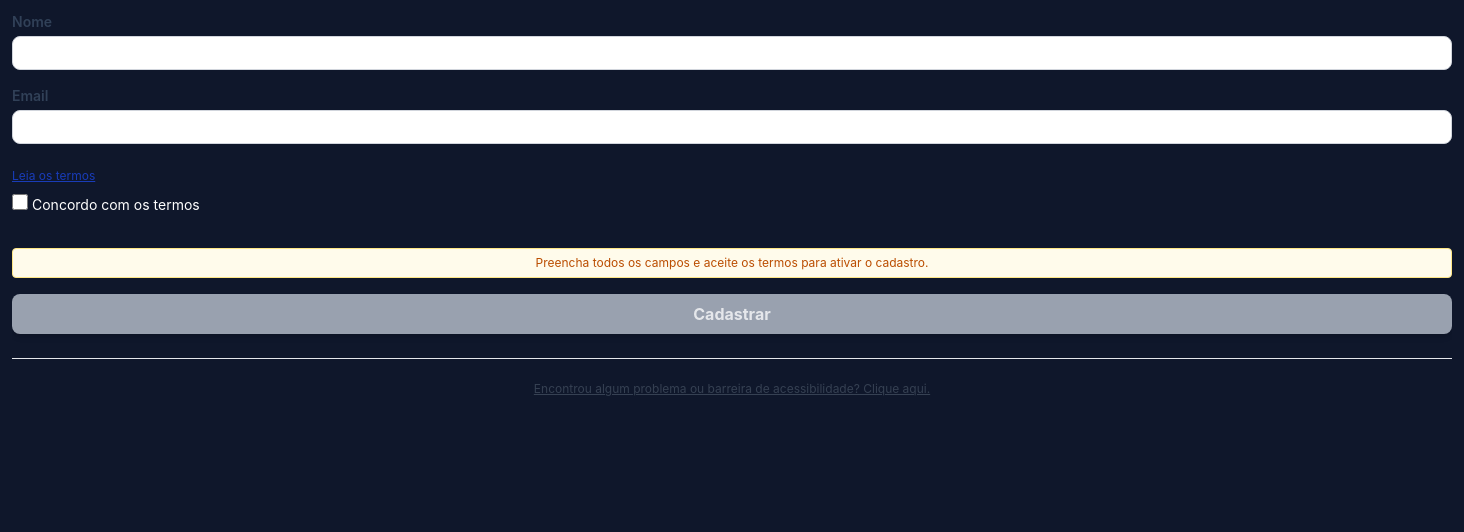
Fluxo de Sucesso com API › Deve aparecer mensagem de agradecimento ao submeter o feedback do rodapé
The image size is (1464, 532).
Click the button "acessibilidade": click(732, 389) top-left (530, 377), bottom-right (934, 401)
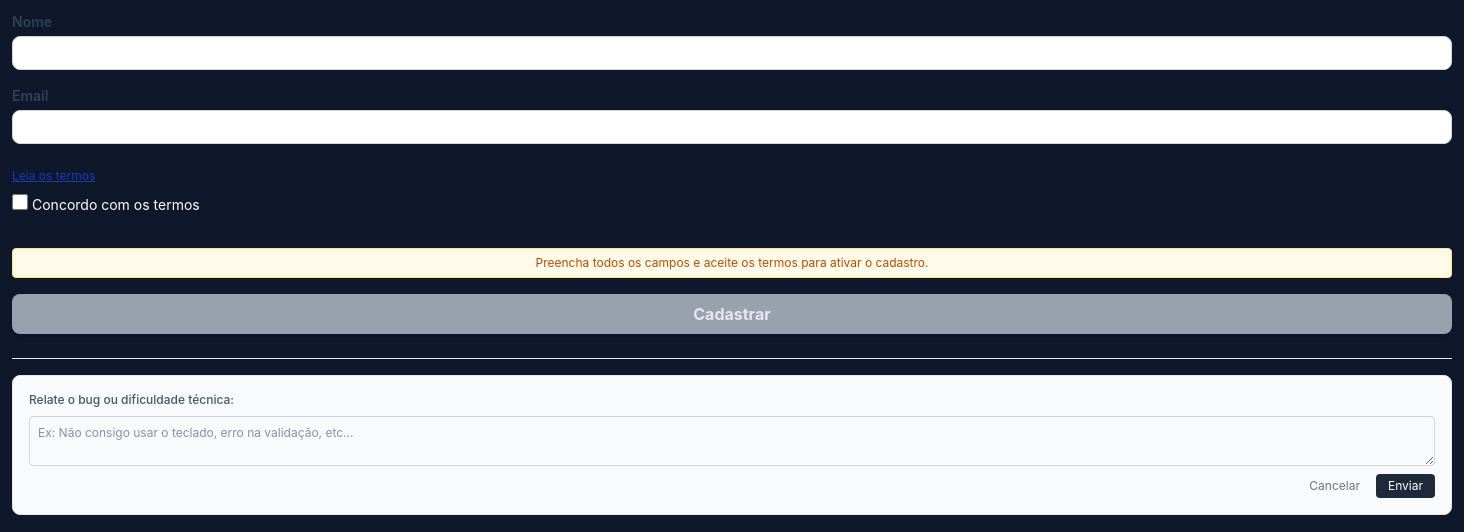
In the text box with placeholder "Ex: Não consigo usar o teclado, erro na validação, etc...": (732, 441) top-left (29, 416), bottom-right (1435, 466), type "Tive problemas com a navegação pelo teclado"
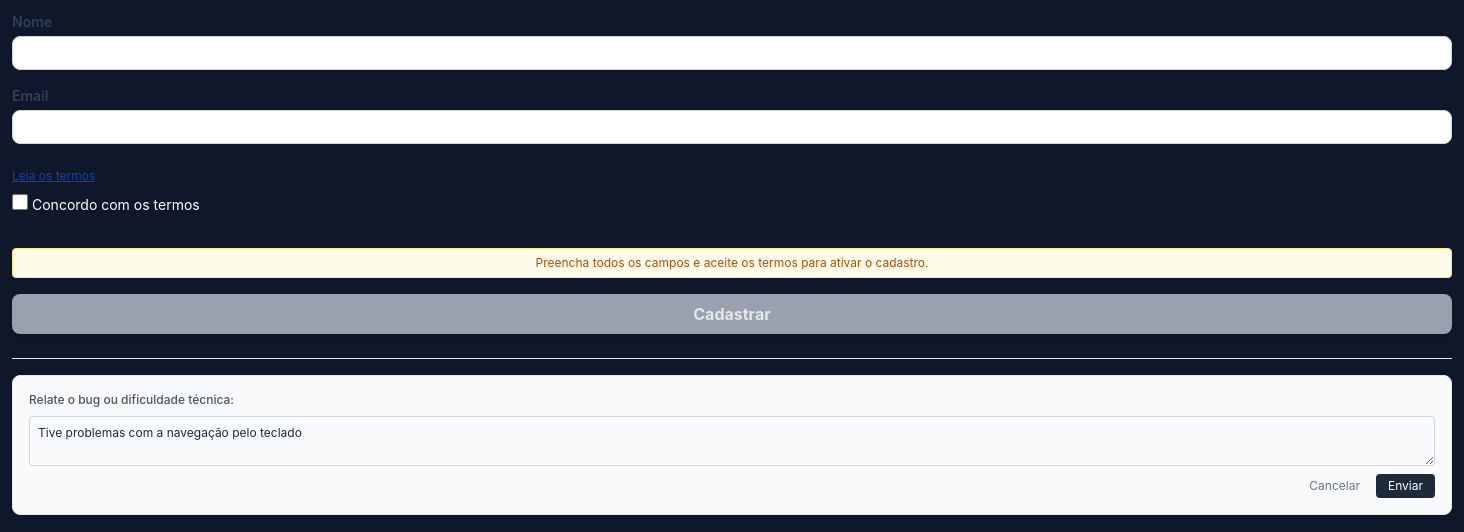
Click the button "Enviar": click(1406, 486) top-left (1376, 474), bottom-right (1435, 498)
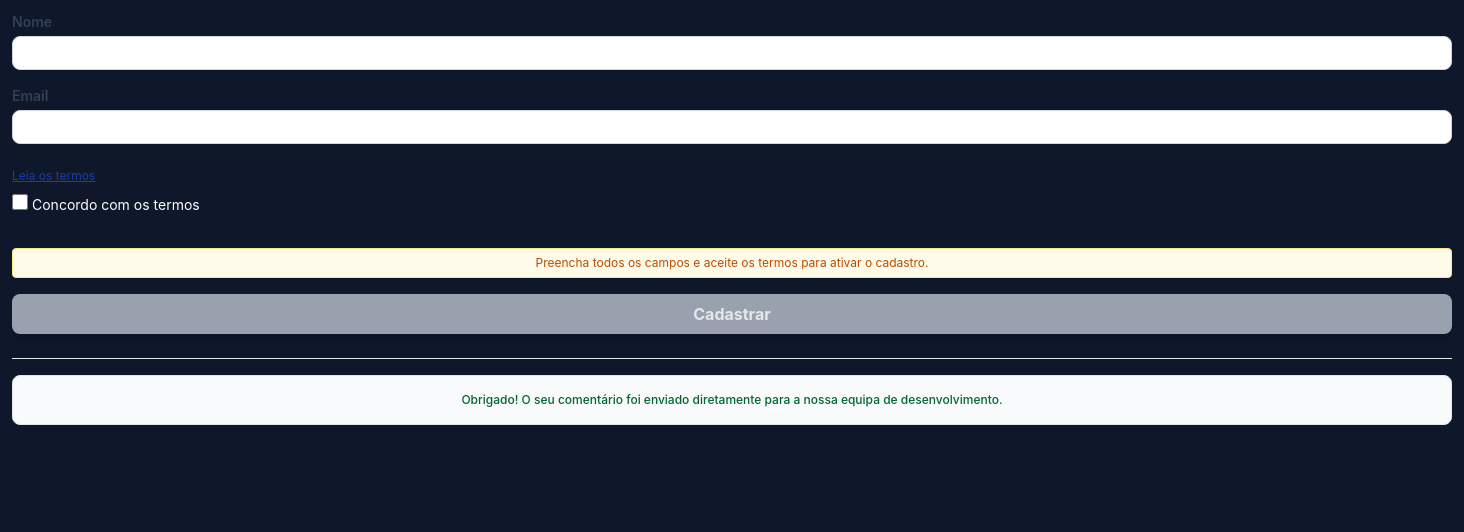
Expected: the text "O seu comentário foi enviado diretamente" is shown, top-left (461, 392), bottom-right (1002, 407)
